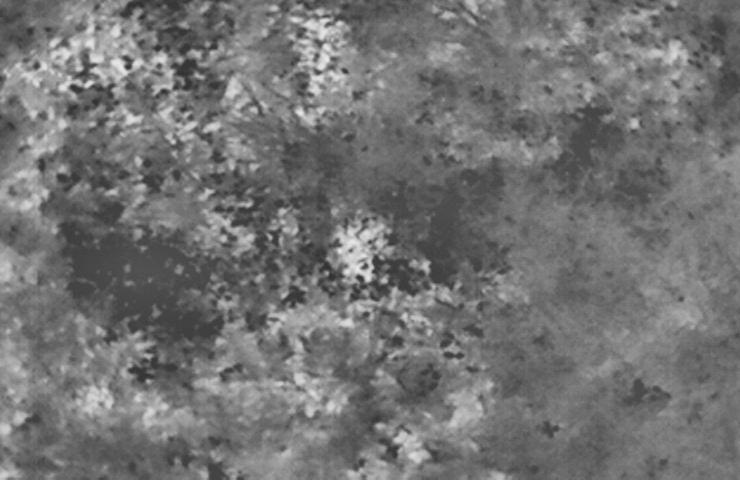landmines: (328, 215, 386, 277)
